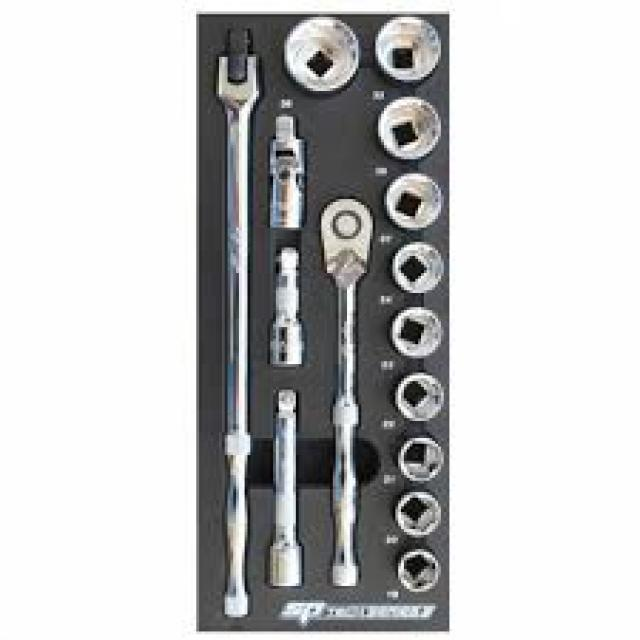wrench: (210, 16, 268, 624), (318, 193, 376, 592)
